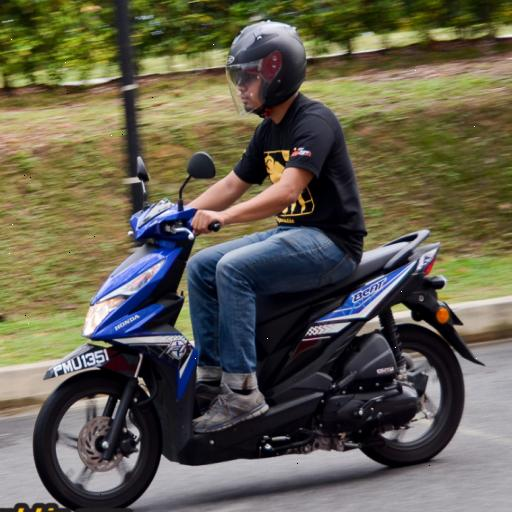Helmet: (226, 21, 305, 115)
Motor: (34, 152, 482, 508)
